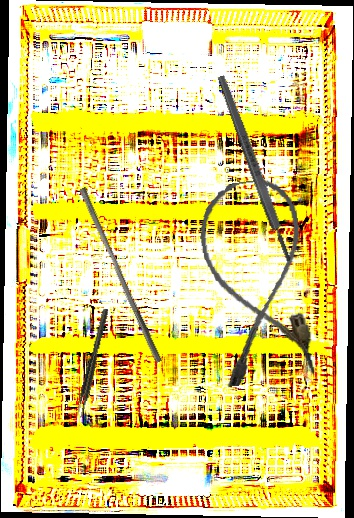Cannula: (193, 175, 320, 388)
Pusher: (73, 186, 169, 364)
Scalpel Handle: (215, 73, 295, 264)
Tissue Forceps: (74, 308, 112, 419)
